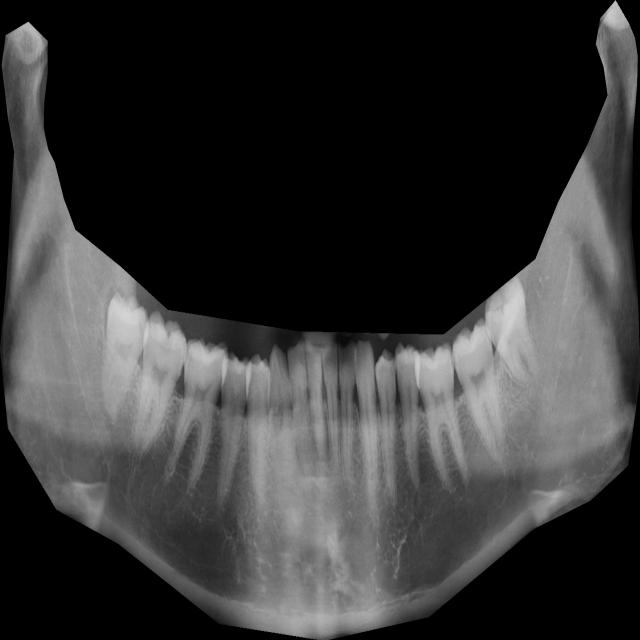mandibula: (0, 0, 640, 640)
